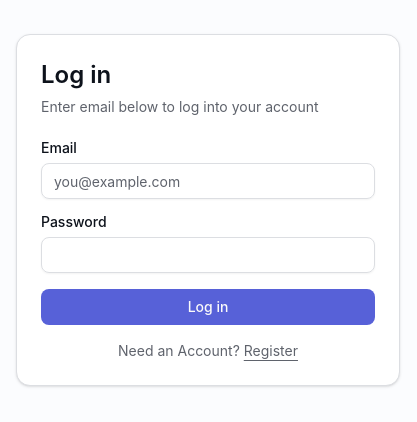
LoginPage › shows an error and does not navigate on failed login
In the field with id "email": (208, 181) [41, 163, 375, 199], type "a@b.com"
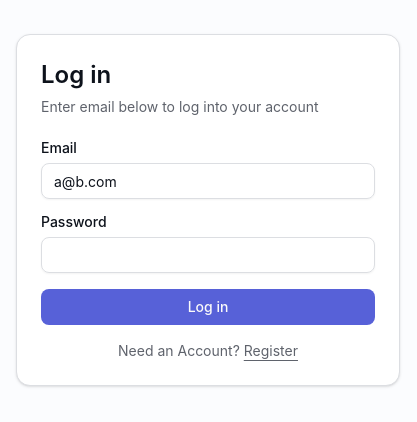
In the password field labelled "Password": (208, 255) [41, 237, 375, 273], type "wrong"
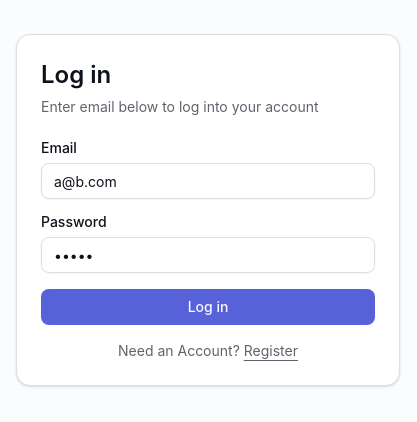
Submit the form, box [41, 141, 375, 325]
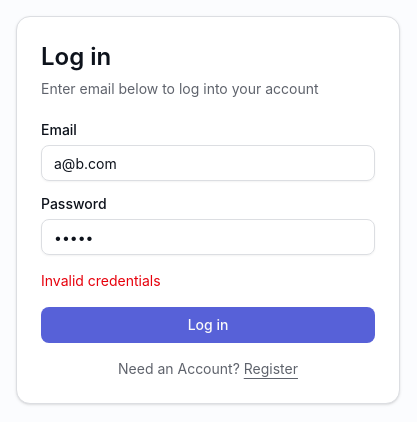
Now the text "Invalid credentials" is shown, box [41, 272, 161, 289]
